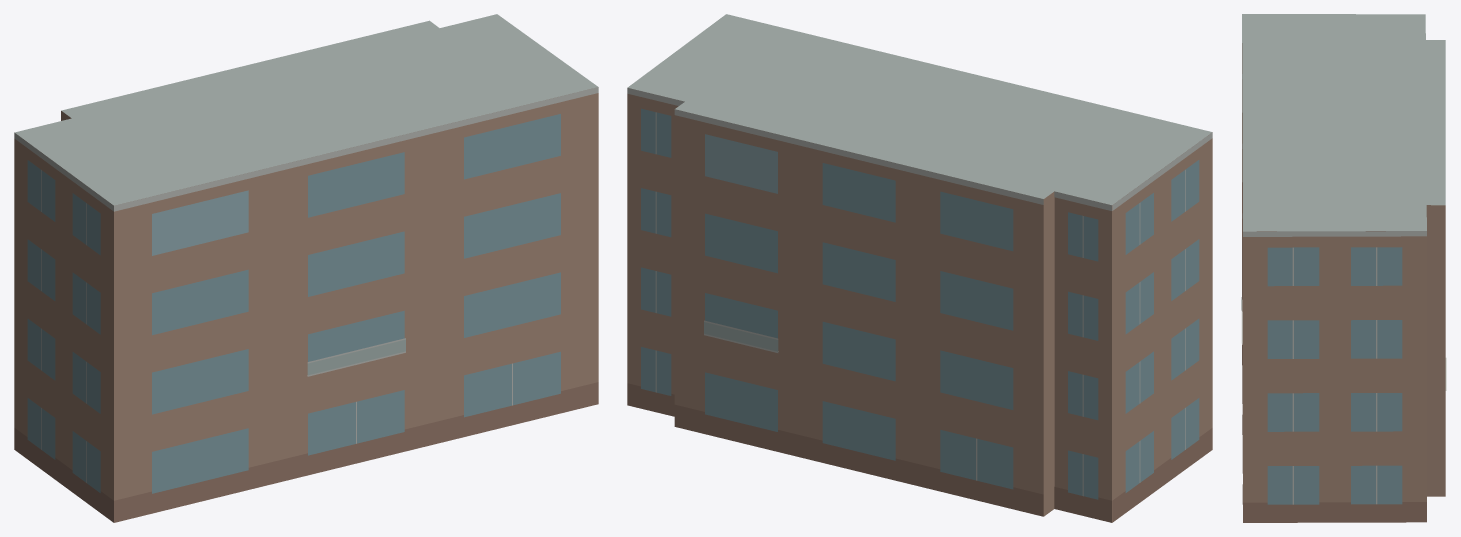
The model's file is survey-upis-33043452.glb.
The picture shows the model from 3 angles, left to right: view 1: azimuth 30°, elevation 25°; view 2: azimuth 150°, elevation 25°; view 3: azimuth 270°, elevation 25°; orthographic projection. The views are drawn at different scales.
Parts seen in each view (by area): view 1: survey-upis-33043452.tmp; view 2: survey-upis-33043452.tmp; view 3: survey-upis-33043452.tmp.
Boxes of the visible parts, x1=… form: survey-upis-33043452.tmp: x1=14, y1=14, x2=598, y2=522; survey-upis-33043452.tmp: x1=627, y1=14, x2=1212, y2=522; survey-upis-33043452.tmp: x1=1241, y1=14, x2=1446, y2=522.
Size of the model in its own units: 20.82 by 13 by 8.29.
